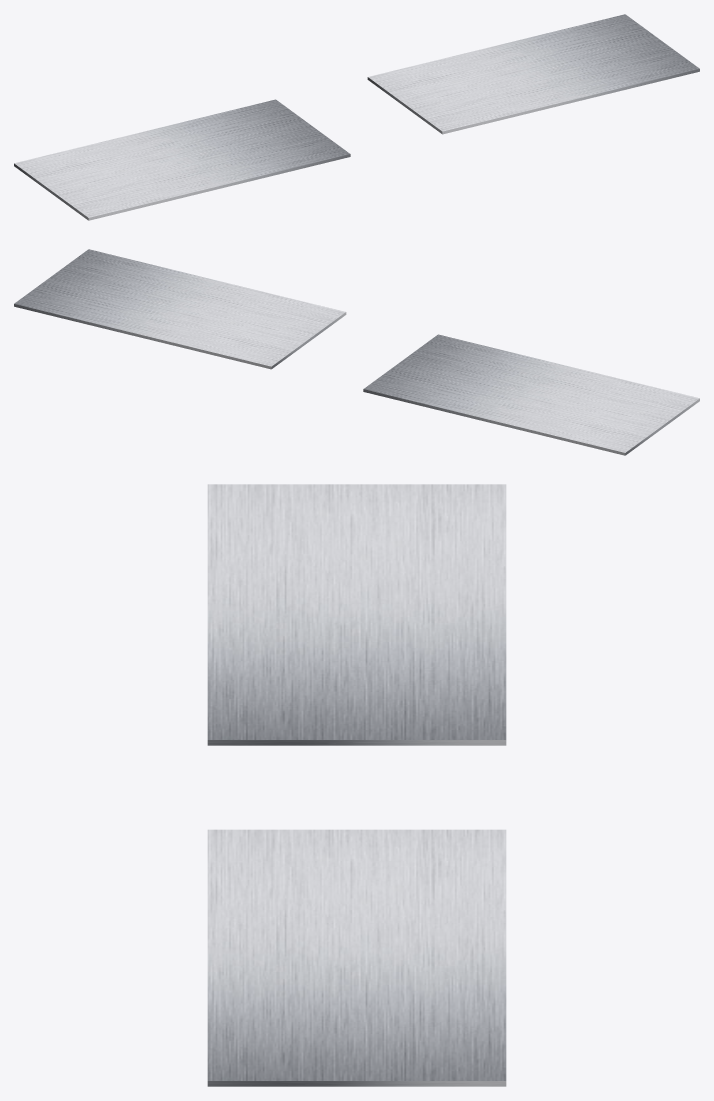
Rendered from patiofloor.fbx.
The picture shows the model from 3 angles, top to bottom: view 1: azimuth 30°, elevation 25°; view 2: azimuth 150°, elevation 25°; view 3: azimuth 270°, elevation 25°; orthographic projection. The views are drawn at different scales.
Parts seen in each view (by area): view 1: pCube2, pCube1; view 2: pCube2, pCube1; view 3: pCube2, pCube1.
Boxes of the visible parts, bbox=[...] form: pCube2: bbox=[14, 99, 350, 220]; pCube1: bbox=[367, 14, 699, 134]; pCube2: bbox=[363, 334, 699, 455]; pCube1: bbox=[14, 249, 346, 369]; pCube2: bbox=[207, 484, 506, 745]; pCube1: bbox=[207, 829, 506, 1086].
Size of the model in its own units: 18.46 by 0.0824 by 3.9.
1 material, 1 textured.
